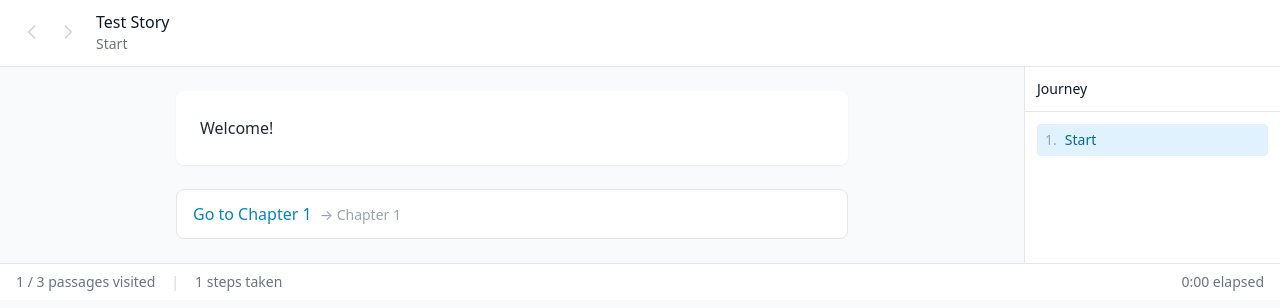
Test: TwinePlayer › navigation › navigates back when back button clicked
Note: Navigate forward
Click the button "Go to Chapter 1→ Chapter 1" at x=252, y=214, box 176,189 -> 848,239
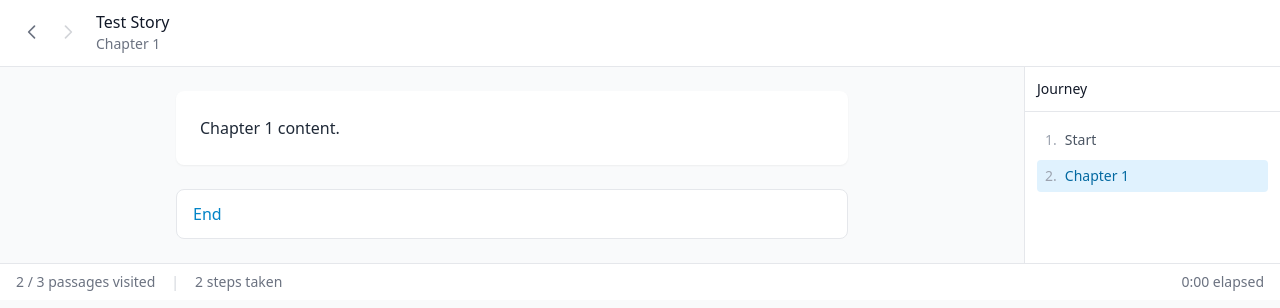
Result: the text "Chapter 1 content." is shown at 200,117 -> 340,139
Note: Navigate back
Click the button named "Go back" at x=32, y=32, box 16,16 -> 48,48
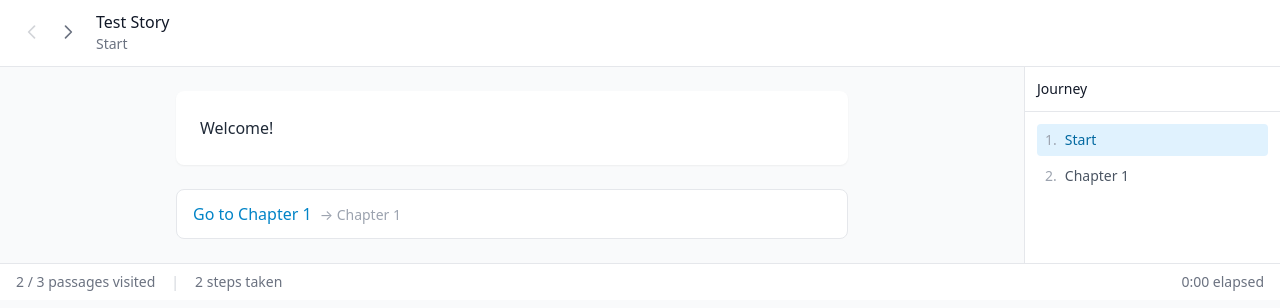
Result: the text "Welcome!" is shown at 200,117 -> 273,139
